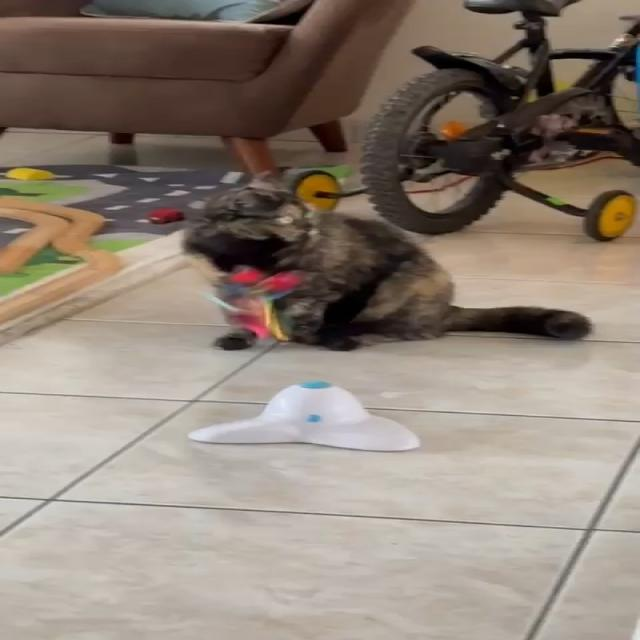authorized: (180, 173, 593, 352)
